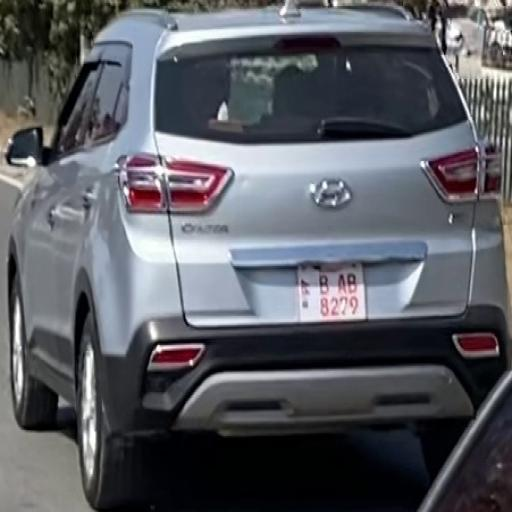license_plate: (292, 260, 372, 327)
